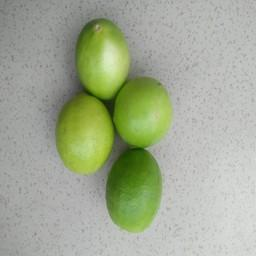Good_lime: (104, 148, 164, 235), (53, 94, 113, 177), (73, 16, 131, 99), (116, 72, 175, 147)
